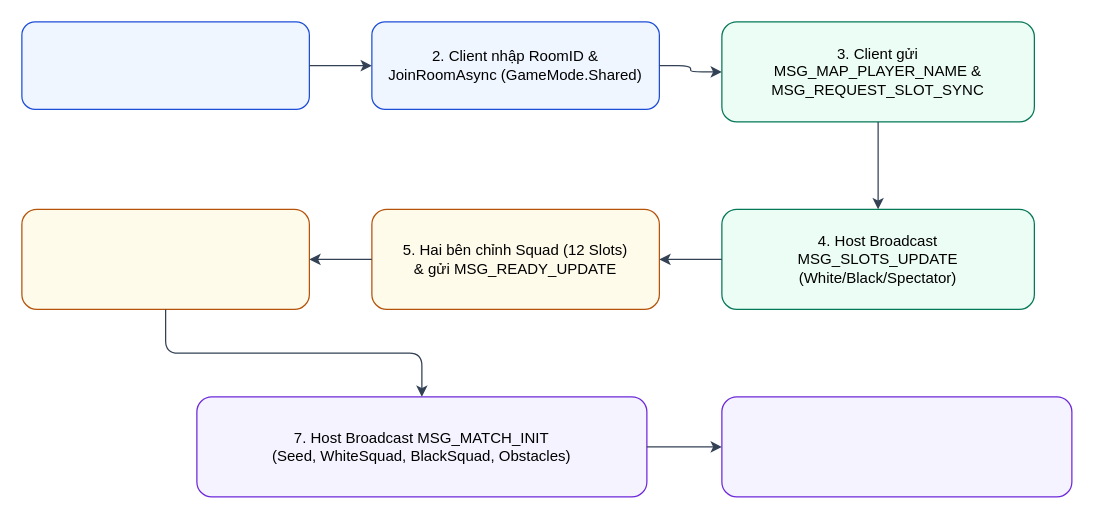
Some shapes in this 1094 by 519 pixel diagram are drawn without their labels. Each missing label, with the centre of its shape:
"1. Host chọn Region & CreateRoomAsync (GameMode.Shared)" goes at (165,65).
"6. Host kiểm tra cả 2 Ready & sinh MatchSeed + Obstacles" goes at (165,258).
"8. Cả 2 máy nạp PvPOnlScene & PvPOnlModeBootstrapper khởi tạo trận" goes at (896,446).
